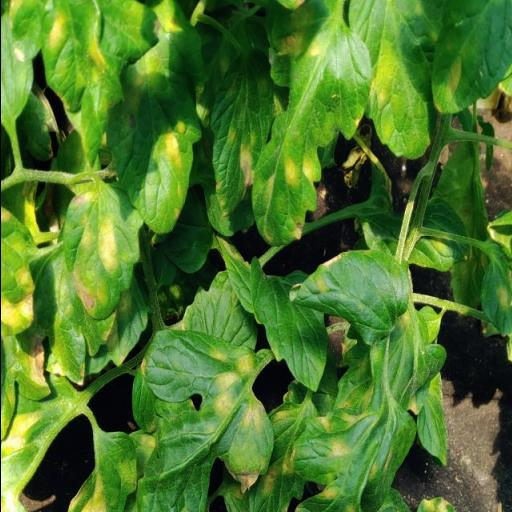disease_tomato: (106, 329, 274, 512), (250, 0, 372, 248), (254, 348, 418, 512), (104, 0, 202, 236), (286, 248, 410, 346), (63, 182, 144, 320), (209, 48, 273, 218)
